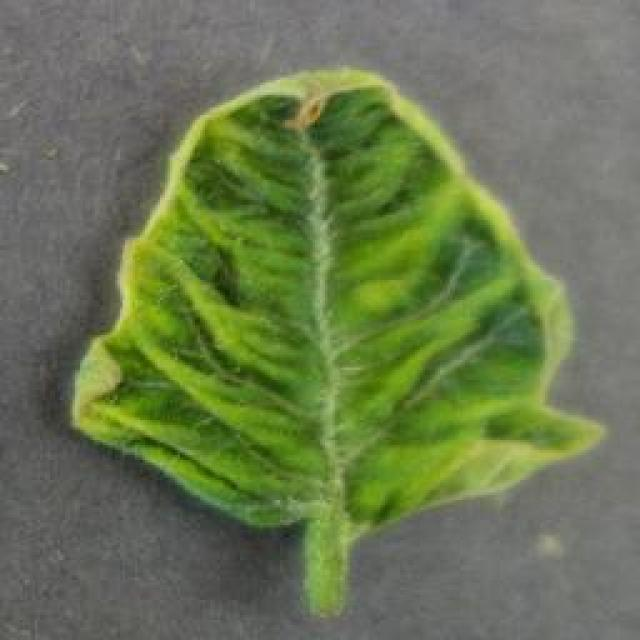Tomato yellow virus leaf: (66, 68, 608, 540)
